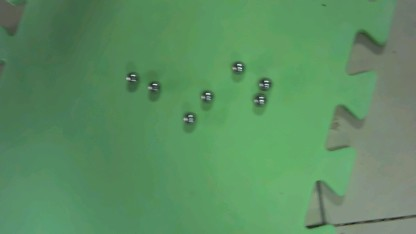ironball: (250, 90, 270, 110), (144, 76, 162, 97), (193, 88, 216, 103), (228, 58, 246, 76), (178, 110, 195, 127), (255, 75, 272, 91), (124, 70, 139, 85)
